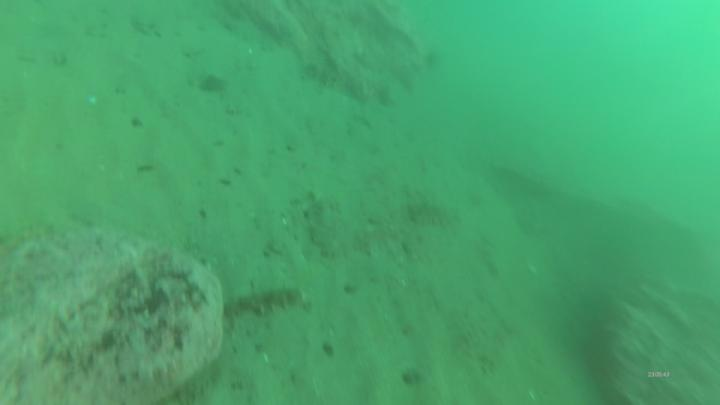holothurian: (226, 283, 300, 320), (405, 200, 458, 225)
